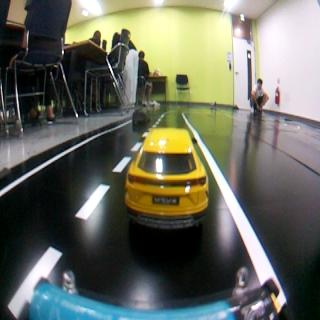car: (128, 129, 206, 225), (132, 107, 152, 129)
